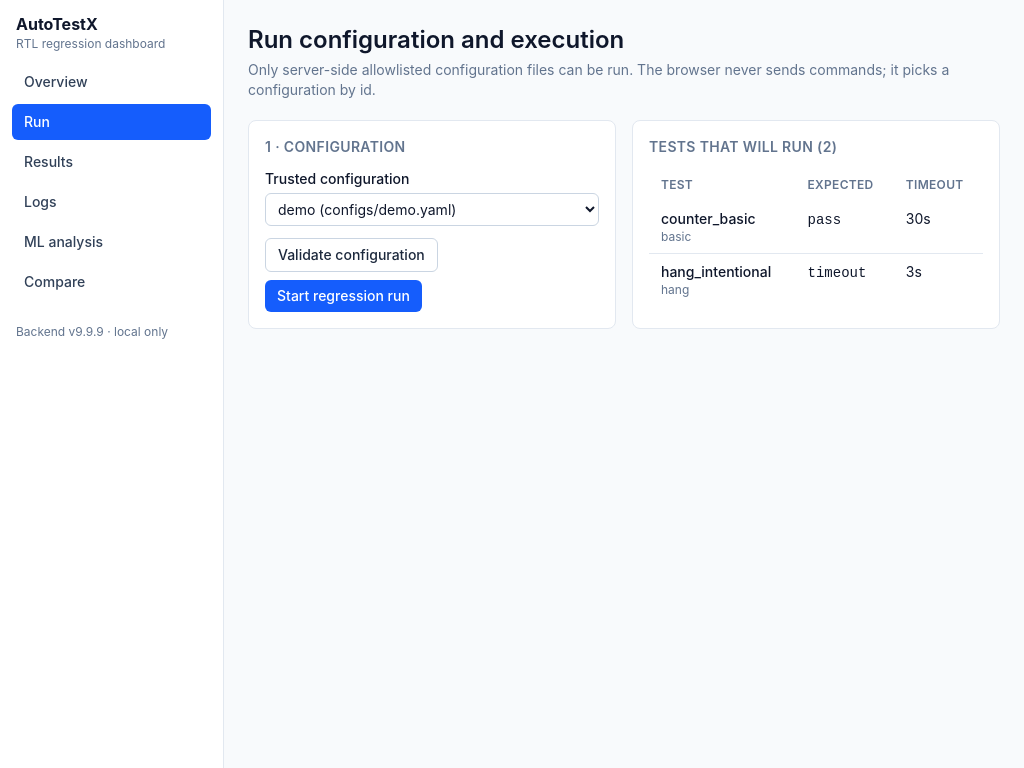
Scenario: Run page › validates, confirms, starts a run and shows progress to completion
Expected: the text "hang_intentional" is shown, x1=661 y1=262 x2=784 y2=282
Click the button "Validate configuration": coordinates (351, 255) x1=265 y1=238 x2=438 y2=272
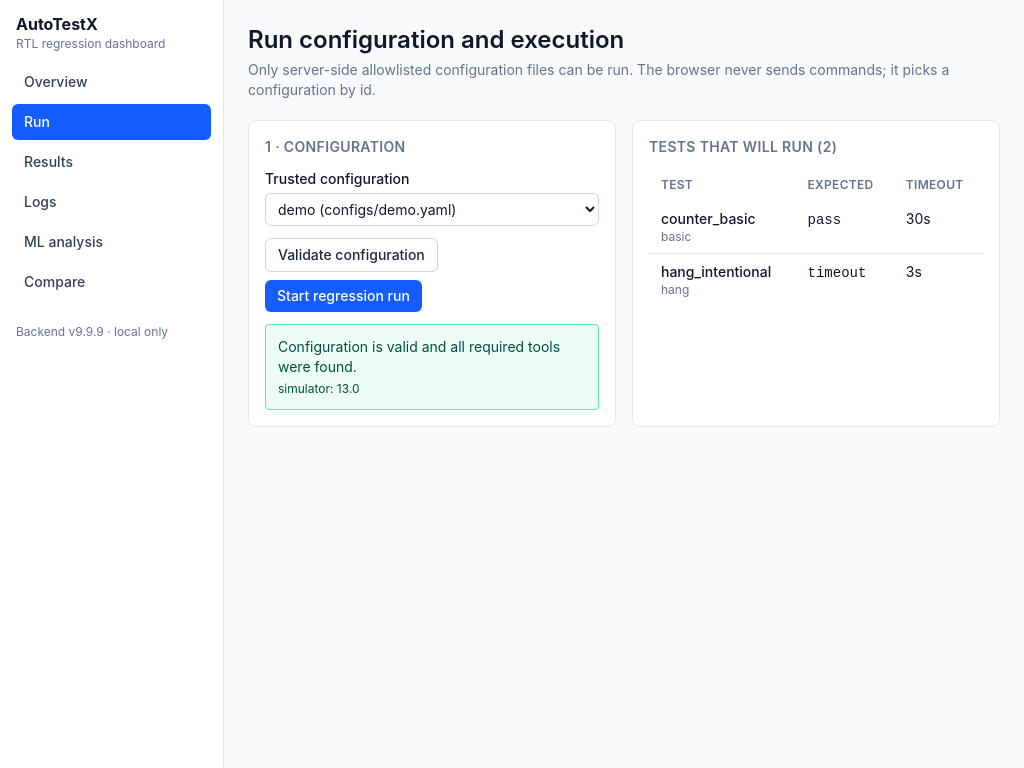
Expected: the text "Configuration is valid and all required tools were found. simulator: 13.0" is shown, x1=265 y1=324 x2=599 y2=410
Click the button "Start regression run": coordinates (343, 296) x1=265 y1=280 x2=422 y2=312
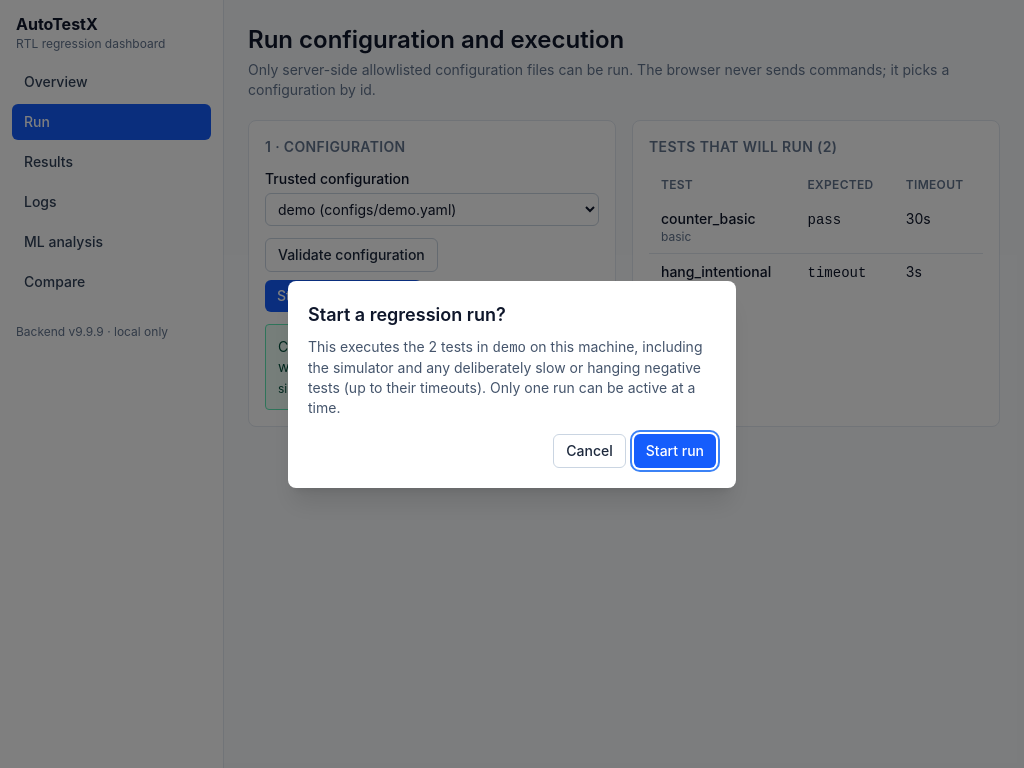
Expected: the dialog shows "only one run can be active", x1=308 y1=338 x2=702 y2=416
Click the button "Start run": coordinates (675, 450) x1=634 y1=434 x2=716 y2=468
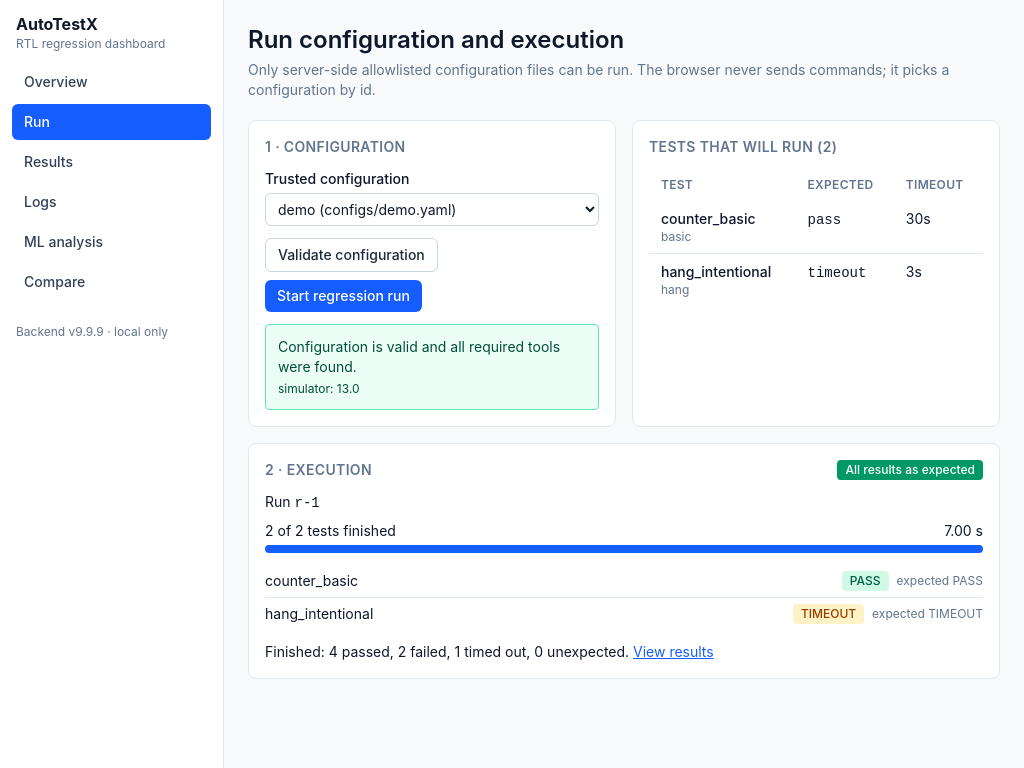
Expected: the progress indicator is shown, x1=265 y1=545 x2=983 y2=553
